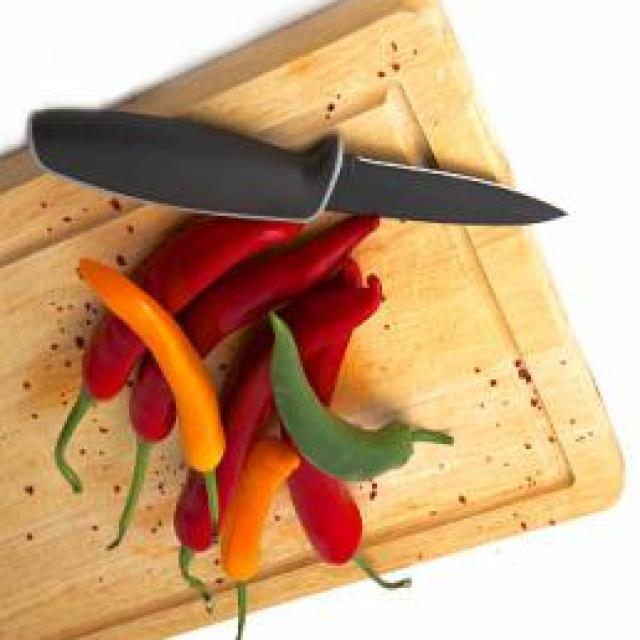knife: (25, 110, 568, 231)
